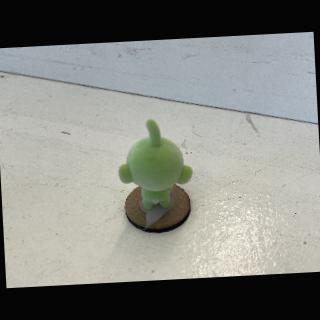teletubby: (119, 119, 193, 210)
